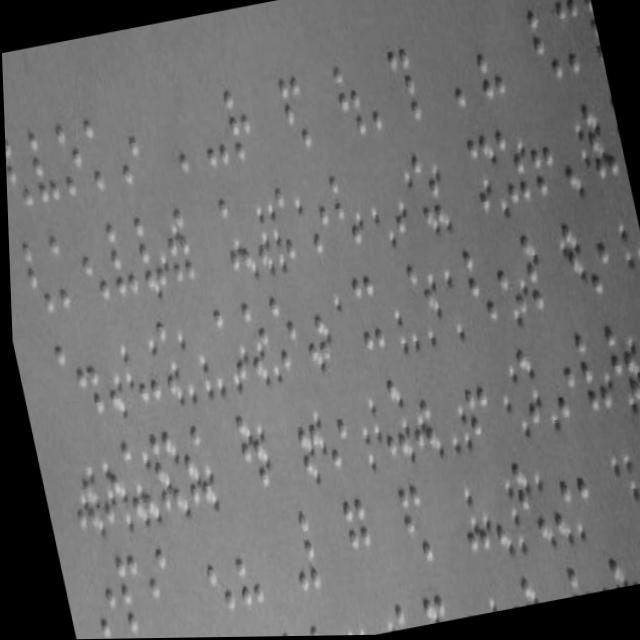braiile: (466, 15, 507, 106), (436, 24, 478, 112), (521, 0, 564, 85), (567, 328, 609, 414), (538, 334, 579, 422), (518, 114, 559, 201), (220, 526, 261, 612), (192, 535, 233, 618), (162, 95, 203, 178), (98, 213, 138, 298), (70, 219, 108, 308), (79, 555, 119, 639), (77, 113, 117, 197), (42, 231, 83, 312), (597, 321, 637, 404), (189, 87, 229, 170), (217, 79, 256, 164), (452, 359, 491, 443), (120, 321, 158, 407), (106, 104, 144, 190), (106, 549, 145, 632), (126, 209, 165, 292), (64, 332, 102, 417), (295, 174, 333, 258), (327, 60, 366, 141), (574, 215, 612, 298), (458, 246, 497, 326), (549, 0, 589, 78), (16, 235, 54, 317), (536, 457, 574, 538), (48, 117, 86, 198), (312, 390, 350, 470), (356, 55, 394, 135), (170, 204, 208, 281), (324, 171, 361, 250), (291, 285, 327, 364), (263, 290, 298, 370), (347, 272, 382, 352), (23, 127, 59, 204), (487, 242, 523, 316), (271, 184, 303, 259), (4, 131, 32, 210), (625, 435, 640, 521)
